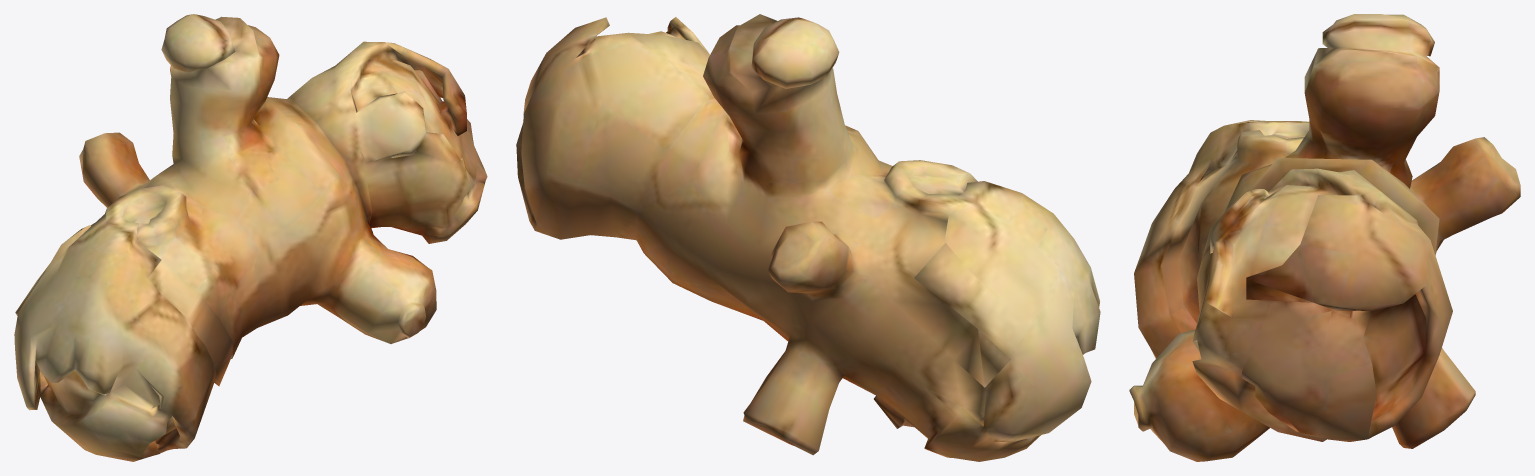
The model's file is ginger.glb.
The picture shows the model from 3 angles, left to right: view 1: azimuth 30°, elevation 25°; view 2: azimuth 150°, elevation 25°; view 3: azimuth 270°, elevation 25°; orthographic projection. The views are drawn at different scales.
Visible parts, largest first — view 1: Ginger; view 2: Ginger; view 3: Ginger.
Boxes of the visible parts, left/top/right/bottom form: Ginger: left=14, top=14, right=487, bottom=461; Ginger: left=516, top=14, right=1100, bottom=461; Ginger: left=1129, top=14, right=1520, bottom=461.
Bounding box in the file's own units: 1.9 × 1.43 × 1.1.
1 material, 1 textured.
